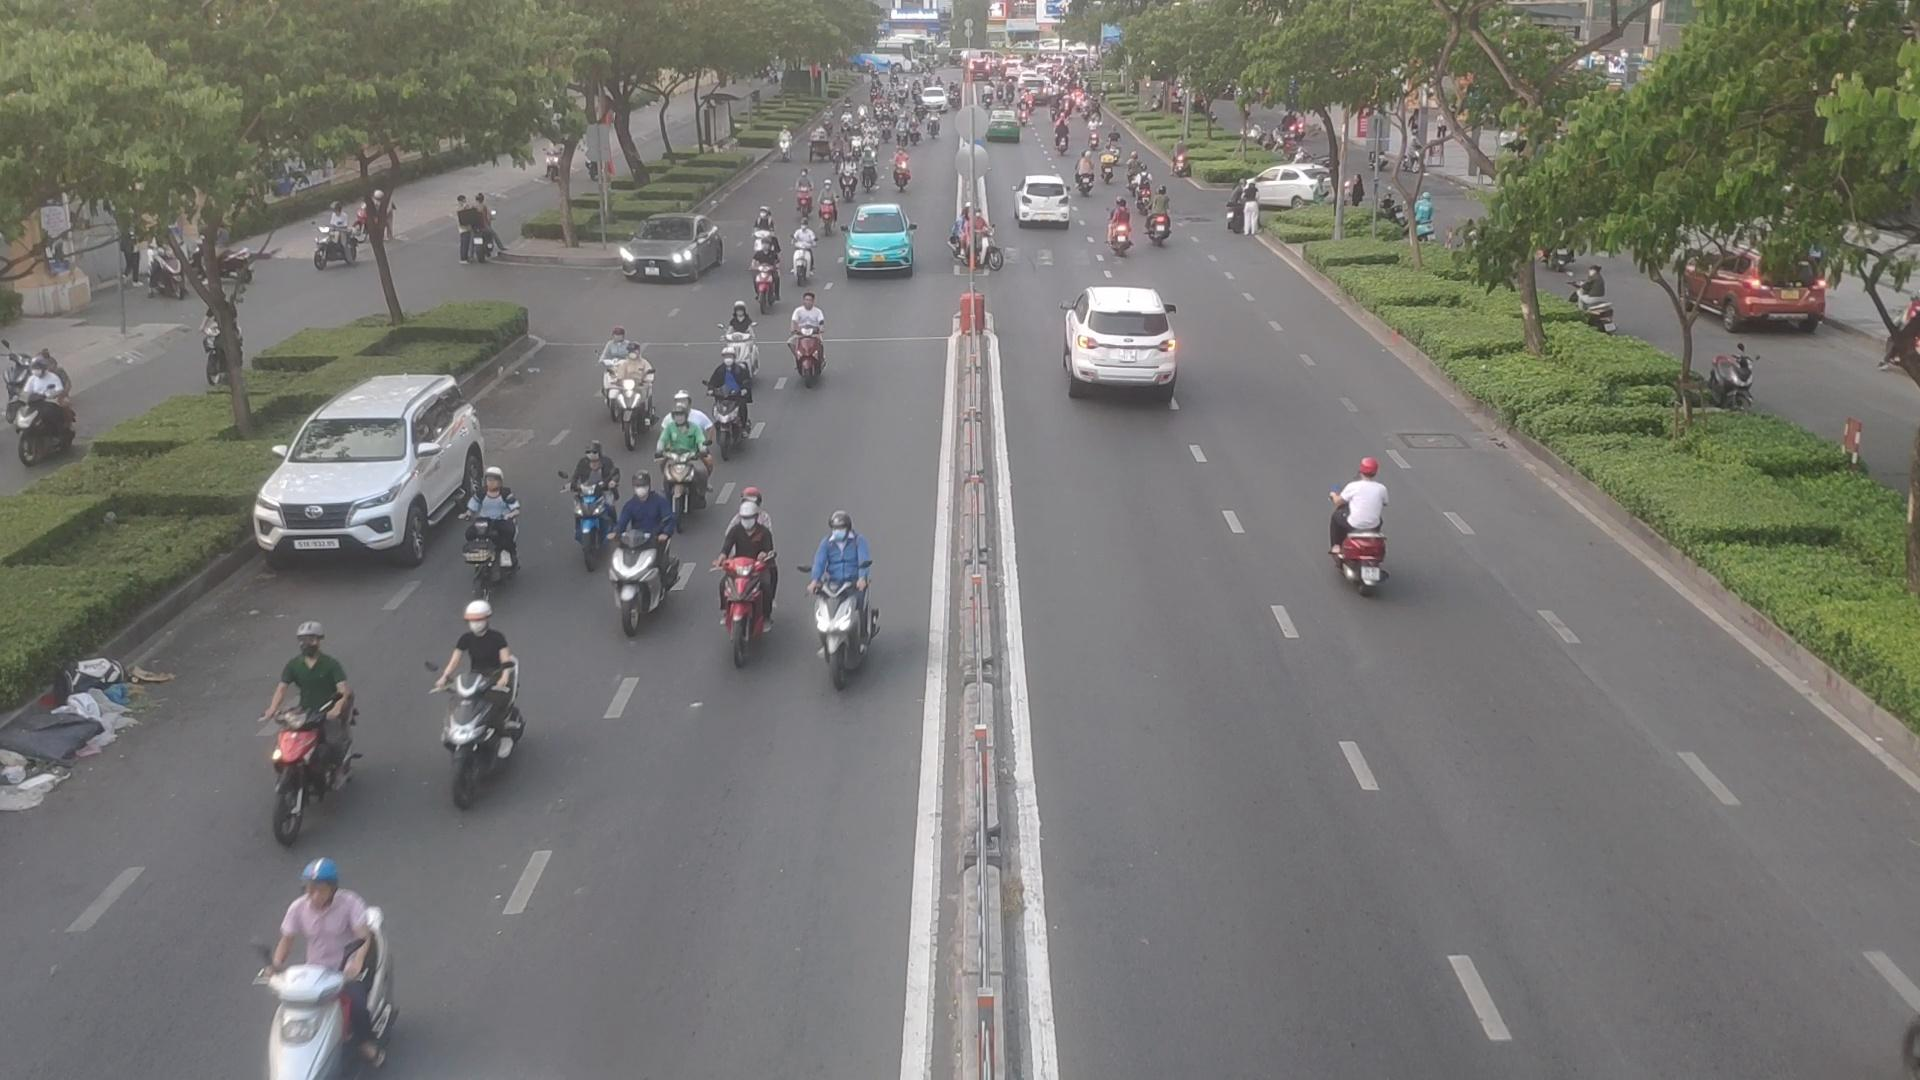car: (255, 376, 489, 568), (1060, 290, 1178, 396), (615, 218, 723, 286), (840, 203, 913, 276), (1015, 178, 1073, 229)
motorbike: (251, 866, 419, 1068), (257, 613, 367, 841), (448, 603, 514, 804), (810, 520, 891, 676), (601, 477, 670, 644), (715, 500, 767, 690), (1325, 462, 1390, 592), (649, 402, 725, 500), (467, 464, 512, 589), (560, 440, 604, 560), (709, 353, 756, 450), (711, 299, 762, 385), (953, 200, 1005, 280), (793, 280, 833, 378), (612, 342, 650, 446), (593, 327, 629, 409), (749, 210, 783, 277), (752, 236, 789, 295), (787, 224, 823, 284), (1112, 202, 1142, 266), (1133, 156, 1158, 219), (1155, 181, 1175, 253), (793, 166, 814, 216), (822, 182, 843, 232), (1077, 156, 1097, 206), (891, 148, 914, 191), (861, 142, 881, 189), (843, 152, 852, 198)
